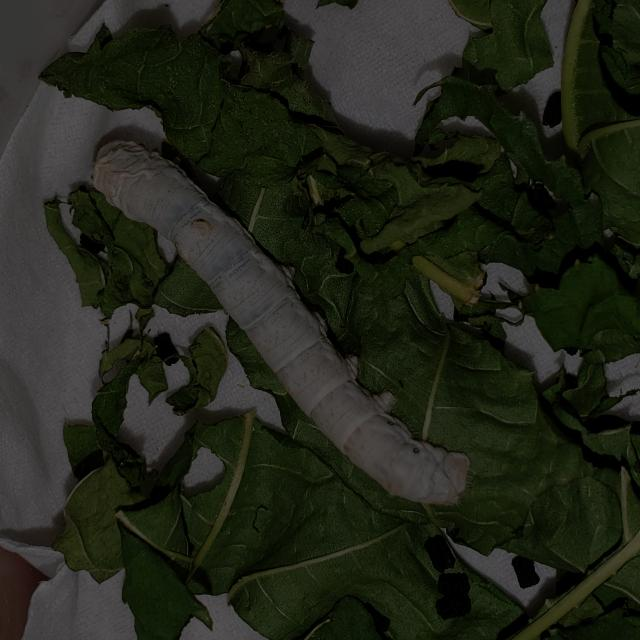Healthy: (76, 89, 504, 556)
